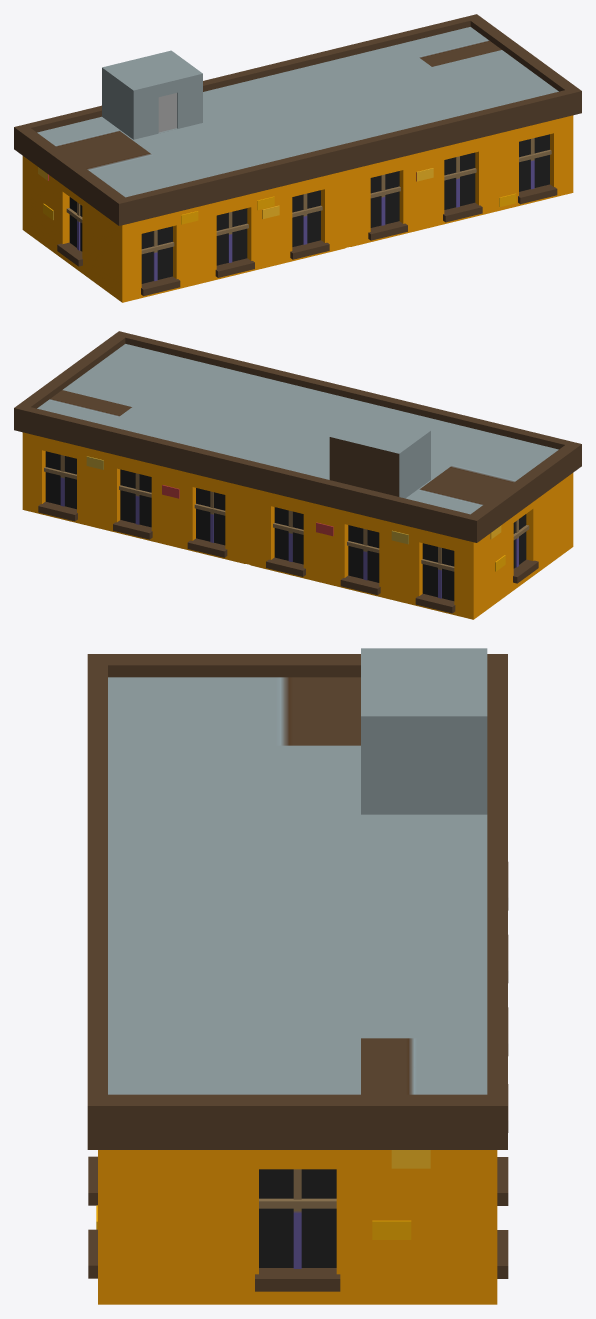
File: House_1_top.fbx
3 renders of one model, top to bottom at view 1: azimuth 30°, elevation 25°; view 2: azimuth 150°, elevation 25°; view 3: azimuth 270°, elevation 25°, orthographic. The views are drawn at different scales.
Parts seen in each view (by area): view 1: polySurface278, polySurface15, polySurface162, polySurface153, polySurface24, polySurface3, polySurface141, polySurface210; view 2: polySurface278, polySurface174, polySurface186, polySurface60, polySurface48, polySurface36, polySurface198, polySurface210; view 3: polySurface278, polySurface72, polySurface74, polySurface73.
Boxes of the visible parts, bbox=[...] form: polySurface278: bbox=[14, 14, 581, 302]; polySurface15: bbox=[443, 202, 482, 222]; polySurface162: bbox=[141, 276, 180, 296]; polySurface153: bbox=[215, 258, 254, 277]; polySurface24: bbox=[518, 184, 557, 204]; polySurface3: bbox=[368, 221, 407, 240]; polySurface141: bbox=[290, 240, 329, 259]; polySurface210: bbox=[57, 242, 82, 266]; polySurface278: bbox=[14, 331, 581, 619]; polySurface174: bbox=[415, 594, 455, 613]; polySurface186: bbox=[340, 575, 380, 595]; polySurface60: bbox=[187, 538, 227, 557]; polySurface48: bbox=[113, 520, 152, 539]; polySurface36: bbox=[38, 501, 77, 521]; polySurface198: bbox=[266, 557, 305, 576]; polySurface210: bbox=[513, 559, 538, 583]; polySurface278: bbox=[87, 648, 507, 1304]; polySurface72: bbox=[255, 1268, 340, 1291]; polySurface74: bbox=[259, 1198, 336, 1208]; polySurface73: bbox=[293, 1169, 301, 1268].
Size of the model in its own units: 2812 by 857 by 1107.
